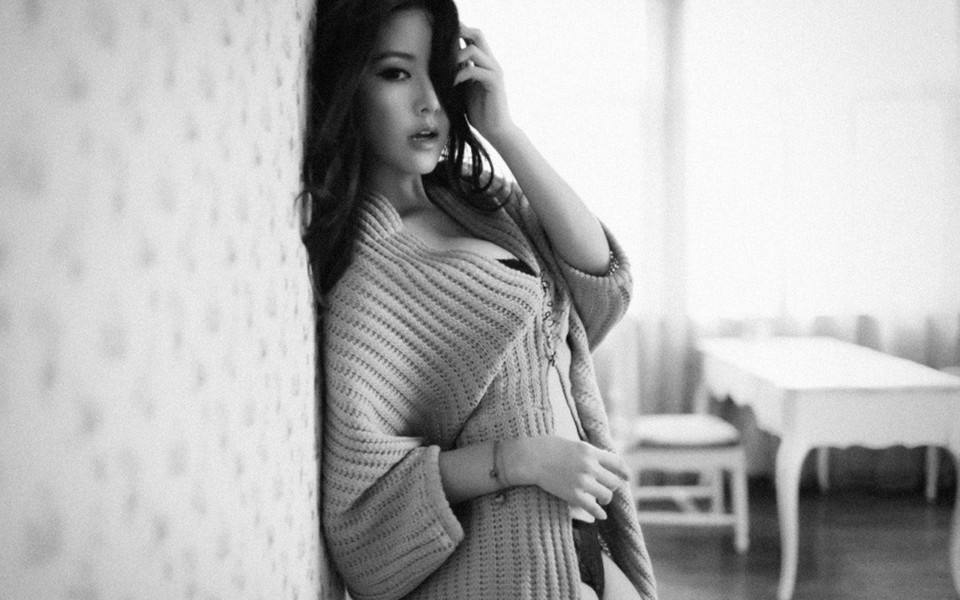person: (271, 7, 672, 523)
